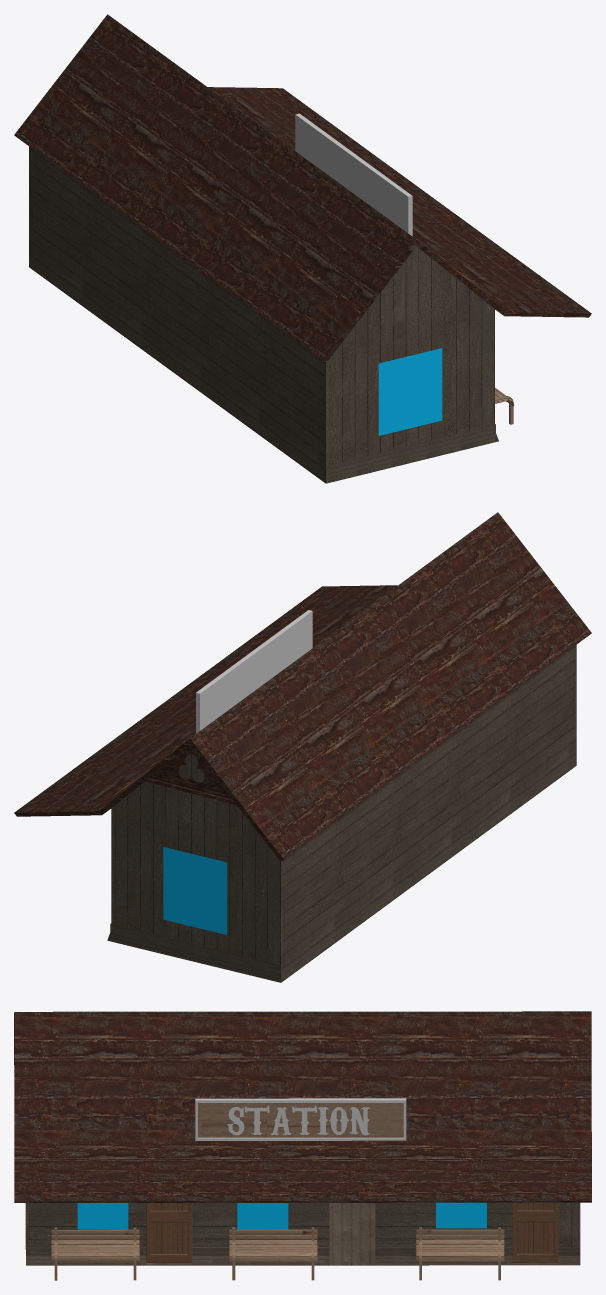
Rendered from estacion.obj.
3 views of the same model, one above another, from view 1: azimuth 30°, elevation 25°; view 2: azimuth 150°, elevation 25°; view 3: azimuth 270°, elevation 25° (orthographic). The views are drawn at different scales.
Parts seen in each view (by area): view 1: Sign_Material.002, Sign_Material.003, Sign_Sign_edge, Plano.001_Material.011; view 2: Sign_Material.002, Sign_Material.003, Sign_Sign_edge, Plano.001_Material.011; view 3: Sign_Material.002, Sign_Material.003, Sign_Material.004, Sign_Material.006, Sign_Sign_back, Sign_Sign_edge, Plano.001_Material.011.
Boxes of the visible parts, x1,y1,x2,y2 form: Sign_Material.002: (14,14,591,362); Sign_Material.003: (29,146,498,483); Sign_Sign_edge: (295,113,412,236); Plano.001_Material.011: (378,348,442,435); Sign_Material.002: (14,512,591,861); Sign_Material.003: (107,645,576,982); Sign_Sign_edge: (196,610,312,733); Plano.001_Material.011: (163,847,226,934); Sign_Material.002: (14,1011,591,1202); Sign_Material.003: (25,1202,580,1265); Sign_Material.004: (51,1227,504,1280); Sign_Material.006: (146,1202,558,1262); Sign_Sign_back: (198,1103,403,1137); Sign_Sign_edge: (195,1098,406,1140); Plano.001_Material.011: (77,1202,486,1229).
Bounding box in the file's own units: 42.92 × 34.81 × 84.97.
